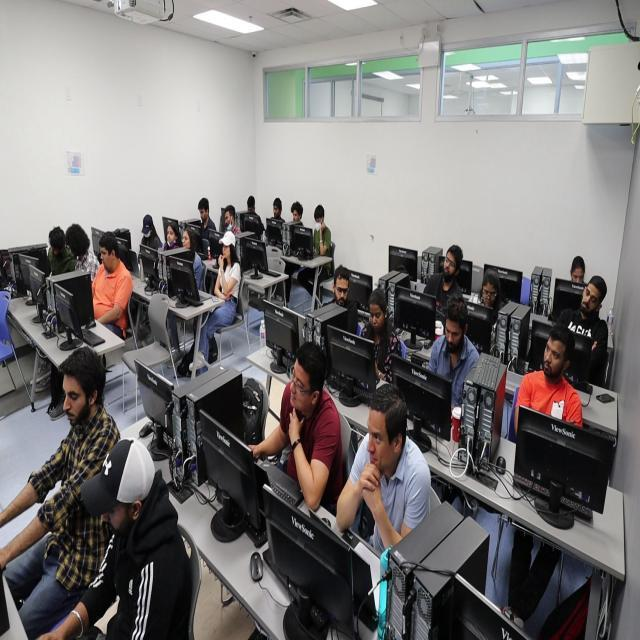Looking away: (62, 374, 85, 426), (444, 316, 462, 352), (580, 282, 598, 314), (368, 300, 384, 329), (334, 276, 349, 306), (482, 280, 496, 306), (572, 264, 584, 285), (100, 246, 110, 270), (199, 208, 208, 222)
Looking forward: (366, 408, 392, 473), (290, 358, 310, 412), (544, 334, 564, 378), (443, 250, 455, 276), (181, 230, 190, 250), (167, 226, 176, 244), (222, 242, 231, 258)
